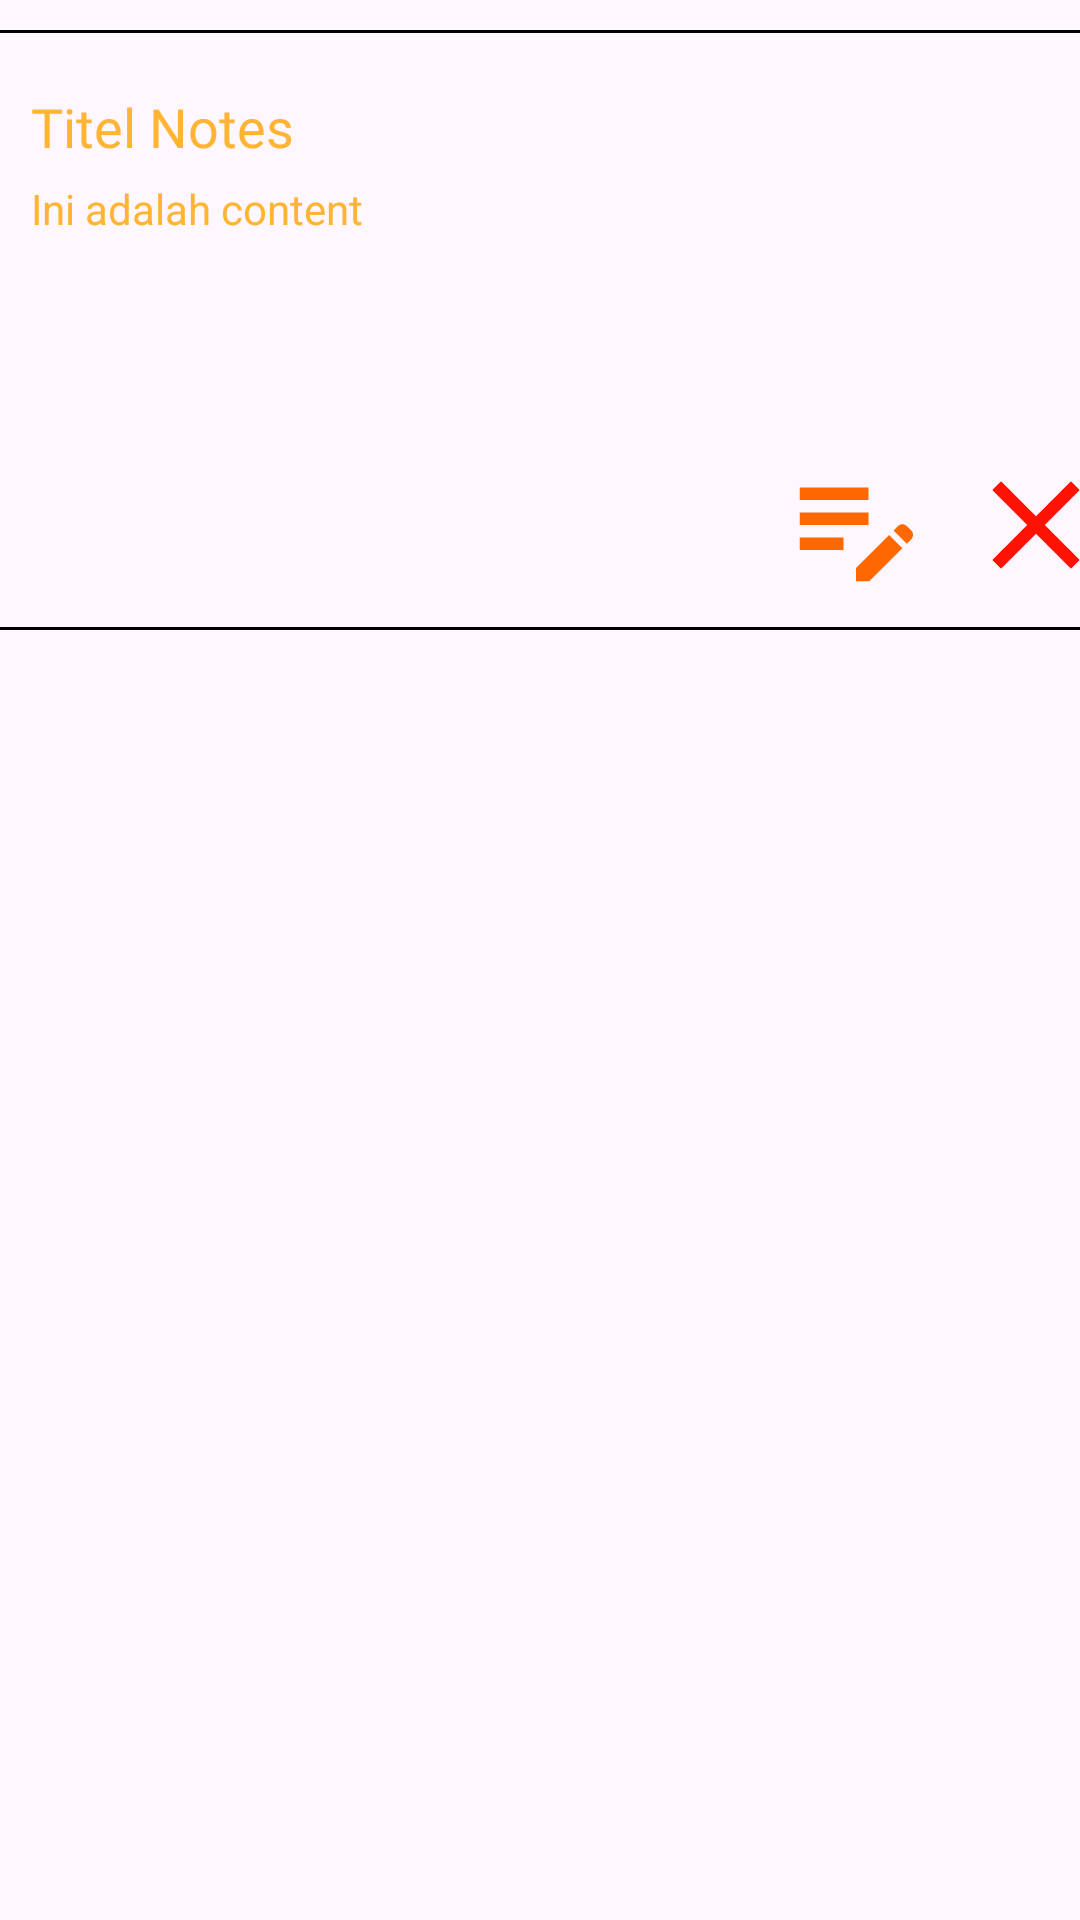

Icons on this 1080w x 1920h Android screen, each with its box as (x1, y1, x2, y2):
edit note: (799, 487, 913, 582)
